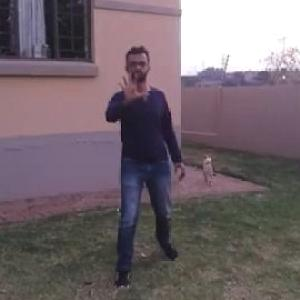follow_hand: (112, 64, 151, 106)
